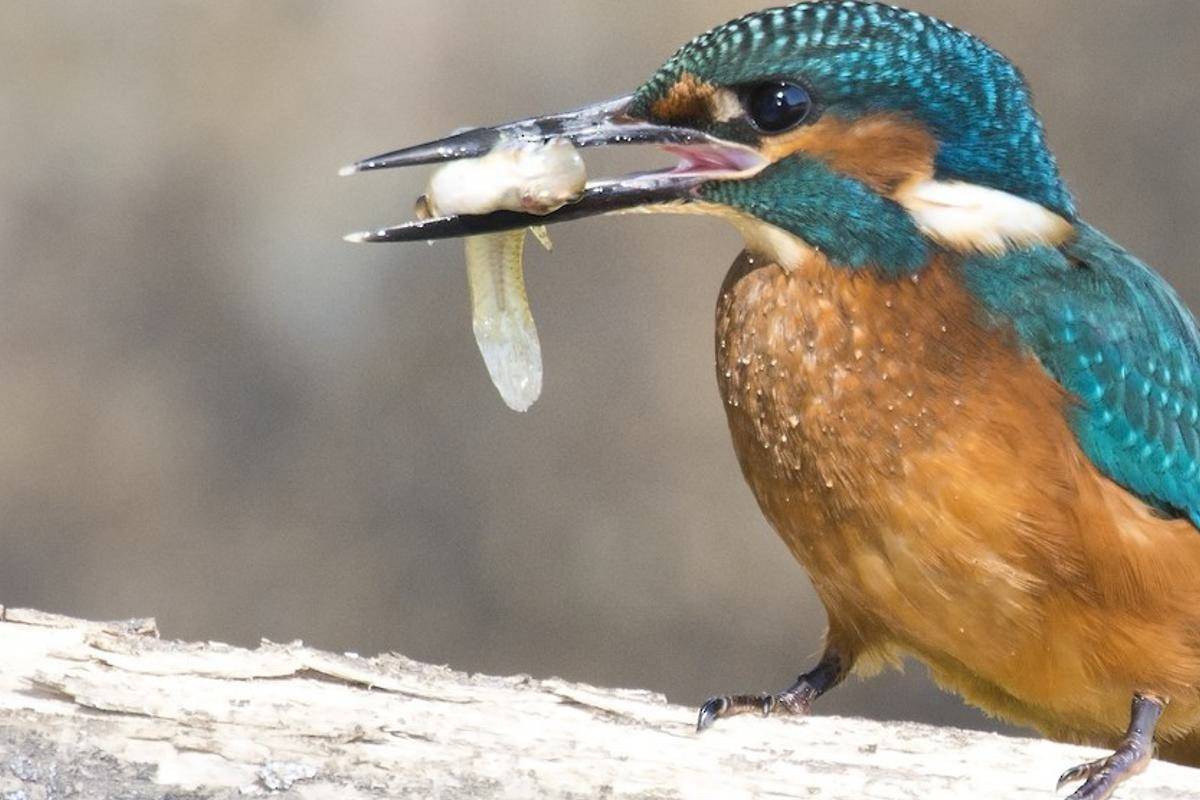kingfisher: (345, 1, 1200, 765)
